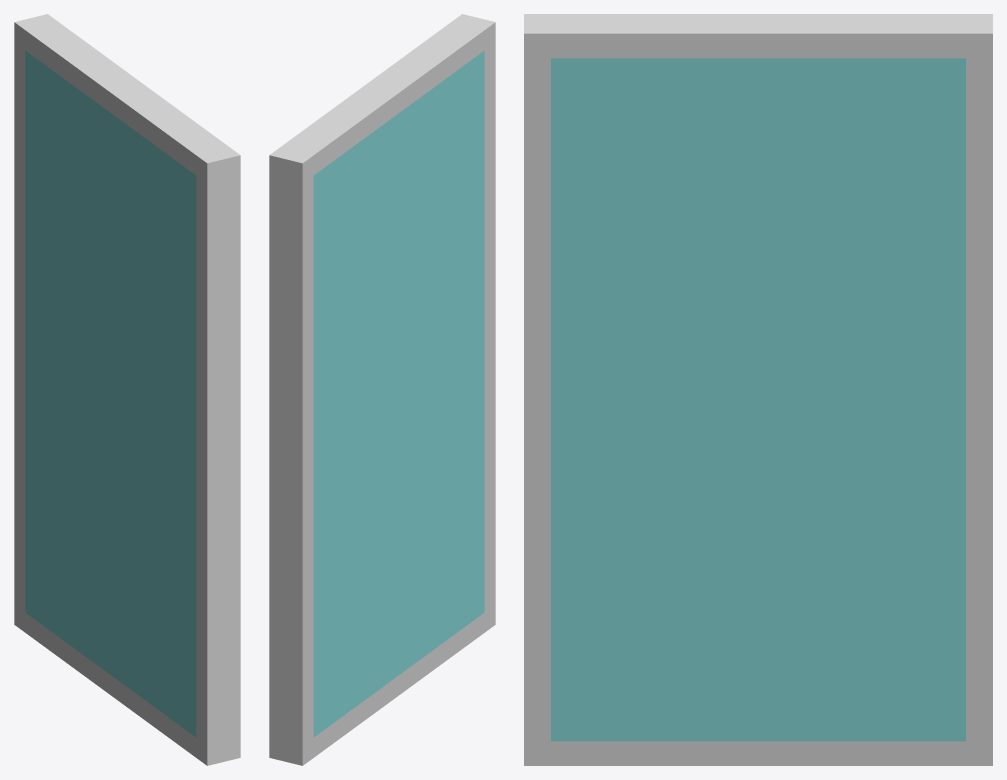
The model's file is GlassDoor.fbx.
3 renders of one model, left to right at view 1: azimuth 30°, elevation 25°; view 2: azimuth 150°, elevation 25°; view 3: azimuth 270°, elevation 25°, orthographic. The views are drawn at different scales.
Parts seen in each view (by area): view 1: Cube.001; view 2: Cube.001; view 3: Cube.001.
Boxes of the visible parts, box(x1,y1,x2,y2) form: Cube.001: box(14, 14, 240, 765); Cube.001: box(269, 14, 495, 765); Cube.001: box(524, 14, 992, 765).
Bounding box in the file's own units: 37.31 × 644 × 373.
